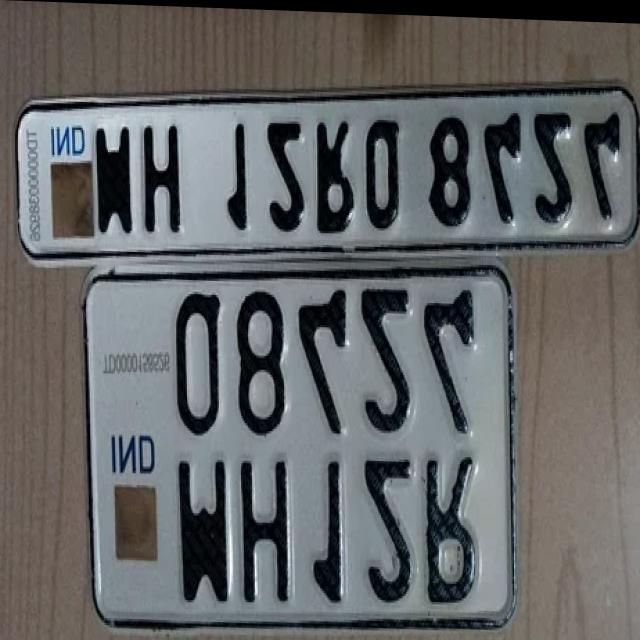1: (312, 448, 349, 603), (220, 110, 256, 236)
2: (352, 276, 413, 440), (360, 446, 420, 603), (265, 105, 303, 237), (532, 103, 574, 220)
4: (421, 283, 482, 441), (296, 277, 354, 439), (581, 100, 626, 225), (482, 101, 524, 225)
8: (232, 278, 290, 443), (428, 105, 474, 225)
d: (139, 430, 157, 474), (72, 121, 85, 157)
h: (239, 448, 293, 608), (141, 112, 186, 239)
i: (48, 120, 56, 161), (110, 430, 116, 475)
m: (172, 445, 235, 610), (90, 112, 139, 240)
n: (119, 430, 137, 476), (56, 122, 71, 157)
q: (171, 278, 228, 438), (365, 105, 401, 232)
r: (422, 439, 483, 601), (316, 115, 354, 236)
